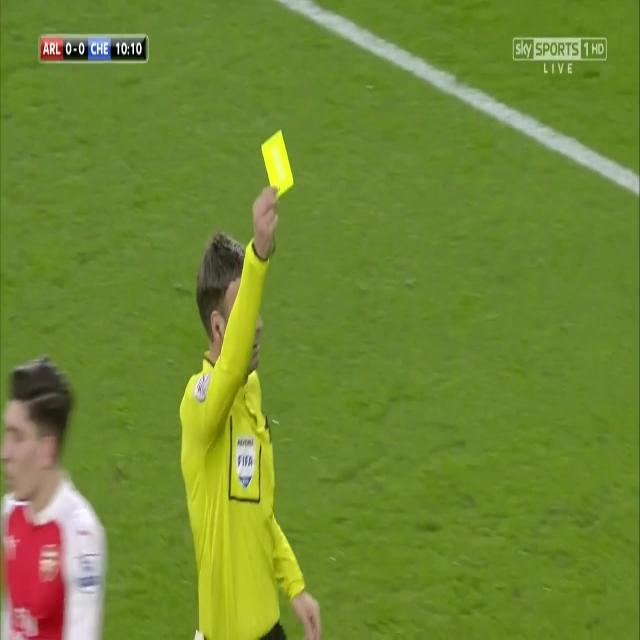Player: (0, 349, 109, 640)
Referee: (176, 178, 322, 640)
